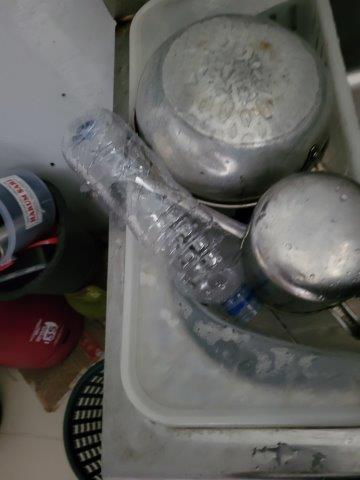botolplastik: (60, 108, 263, 321)
